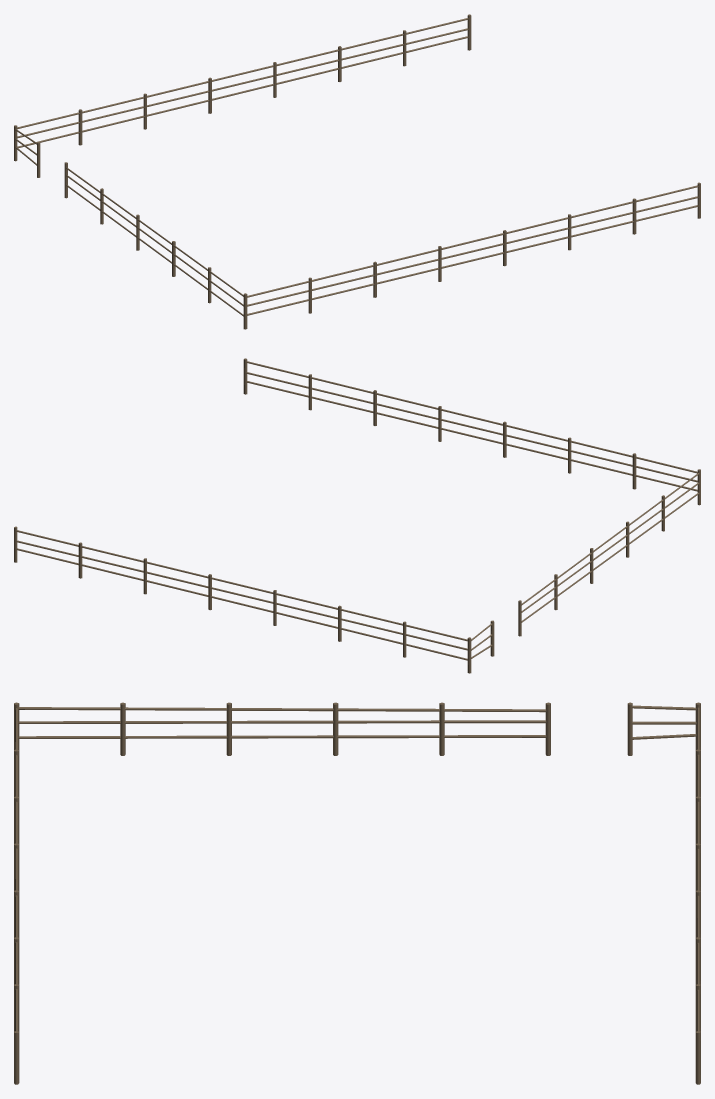
File: izba-fence-3.glb
3 renders of one model, top to bottom at view 1: azimuth 30°, elevation 25°; view 2: azimuth 150°, elevation 25°; view 3: azimuth 270°, elevation 25°, orthographic. The views are drawn at different scales.
Visible parts, largest first — view 1: 00_#7a6a56; view 2: 00_#7a6a56; view 3: 00_#7a6a56.
Boxes of the visible parts, x1,y1,x2,y2 form: 00_#7a6a56: (14,14,700,329); 00_#7a6a56: (14,358,700,673); 00_#7a6a56: (14,702,700,1084).
Bounding box in the file's own units: 17.21 × 1.25 × 15.11.
